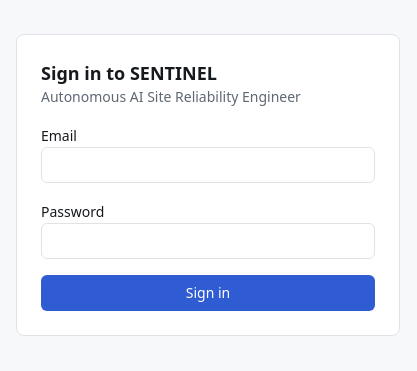
Scenario: signing in › says only that the combination is wrong (no user enumeration)
Type "nobody@example.com" into the field labelled "Email" at point(208, 165), box 41,147 -> 375,183
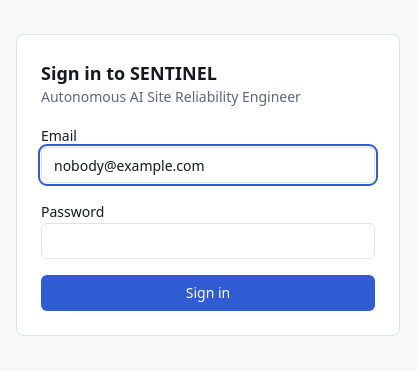
Type "wrong" into the password field labelled "Password" at point(208, 241), box 41,223 -> 375,259
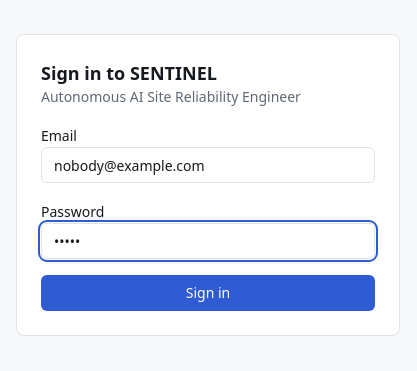
Click the button "Sign in" at point(208, 293), box 41,275 -> 375,311
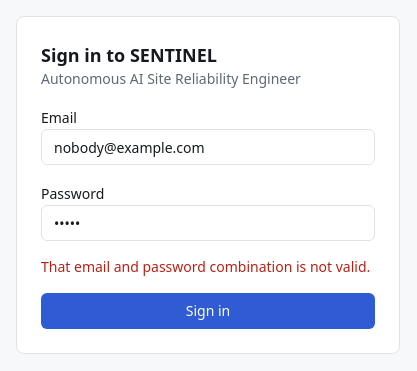
Check: the message reads "That email and password combination is not valid.", box 41,257 -> 370,276
